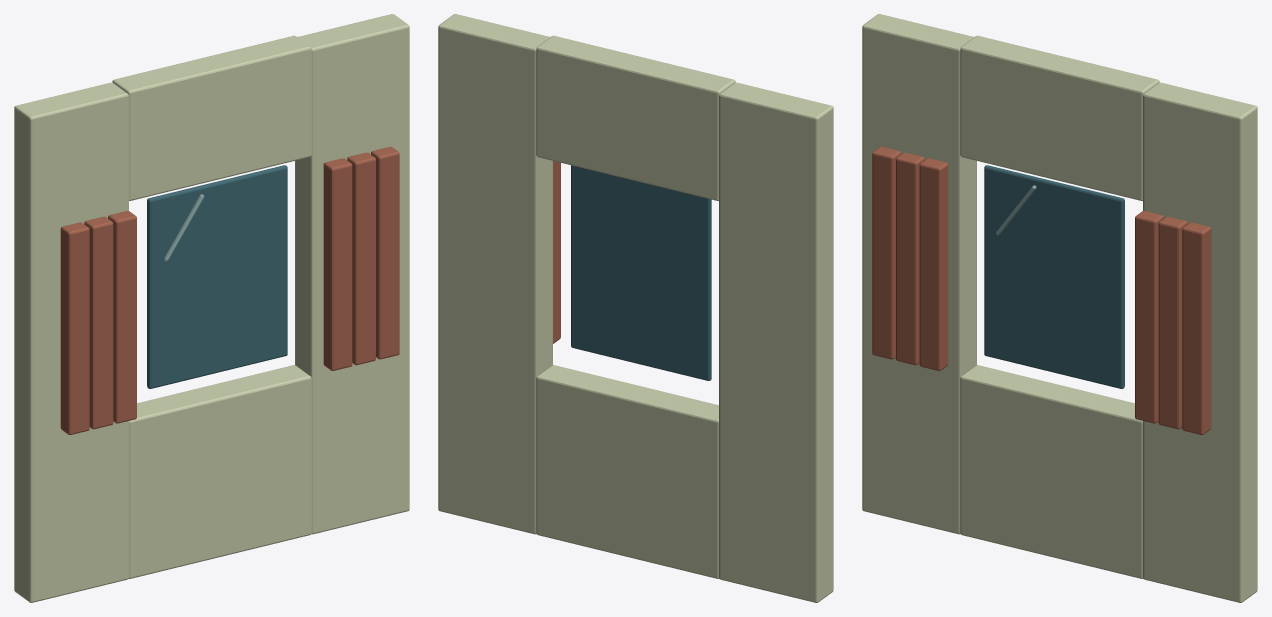
File: wall_window_2m__finish.glb
3 renders of one model, left to right at view 1: azimuth 30°, elevation 25°; view 2: azimuth 150°, elevation 25°; view 3: azimuth 330°, elevation 25°, orthographic.
Visible parts, largest first — view 1: wall_window_2m__finish__mesh_00; view 2: wall_window_2m__finish__mesh_00; view 3: wall_window_2m__finish__mesh_00.
Part boxes in pixels (x1,y1,x2,y2): wall_window_2m__finish__mesh_00: [14, 14, 409, 602]; wall_window_2m__finish__mesh_00: [438, 14, 833, 602]; wall_window_2m__finish__mesh_00: [862, 14, 1257, 602].
Size of the model in its own units: 1.8 by 2.21 by 0.2575.
